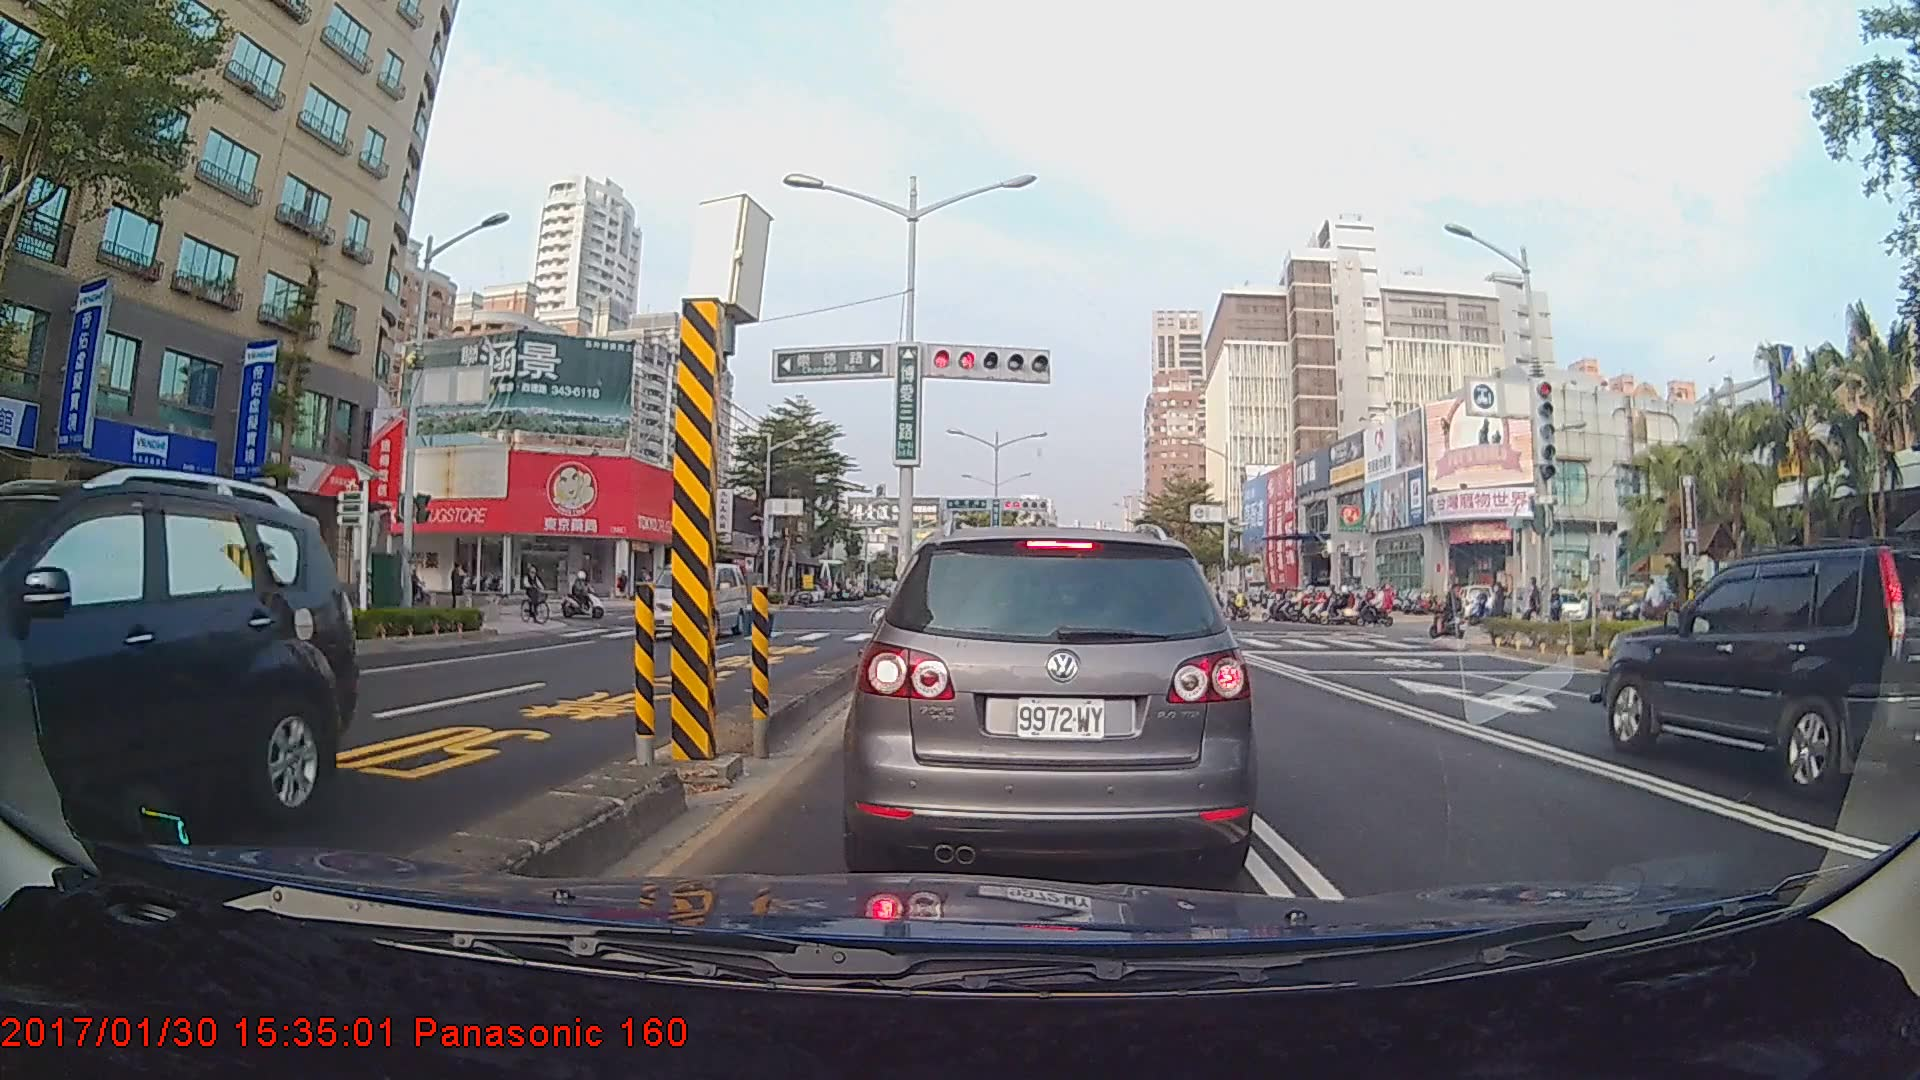pedestrian: (1642, 576, 1665, 635)
rider: (562, 566, 609, 619), (1424, 582, 1464, 637), (522, 566, 551, 627)
vehicle: (839, 517, 1260, 881), (0, 482, 357, 861), (1597, 542, 1920, 804), (637, 562, 748, 641)
